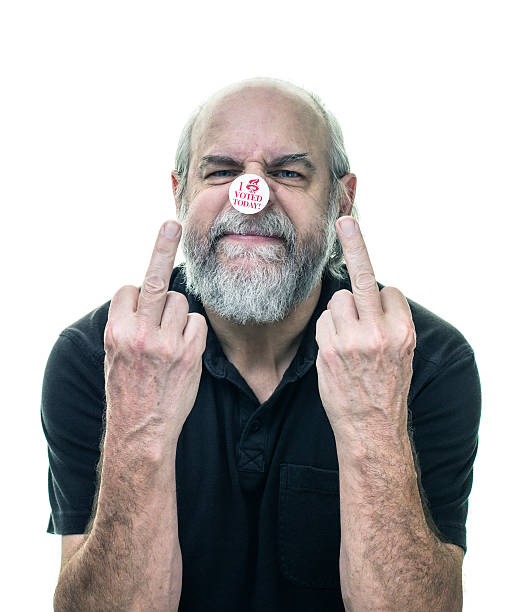insulting_gesture: (101, 213, 211, 434), (314, 214, 419, 418)
